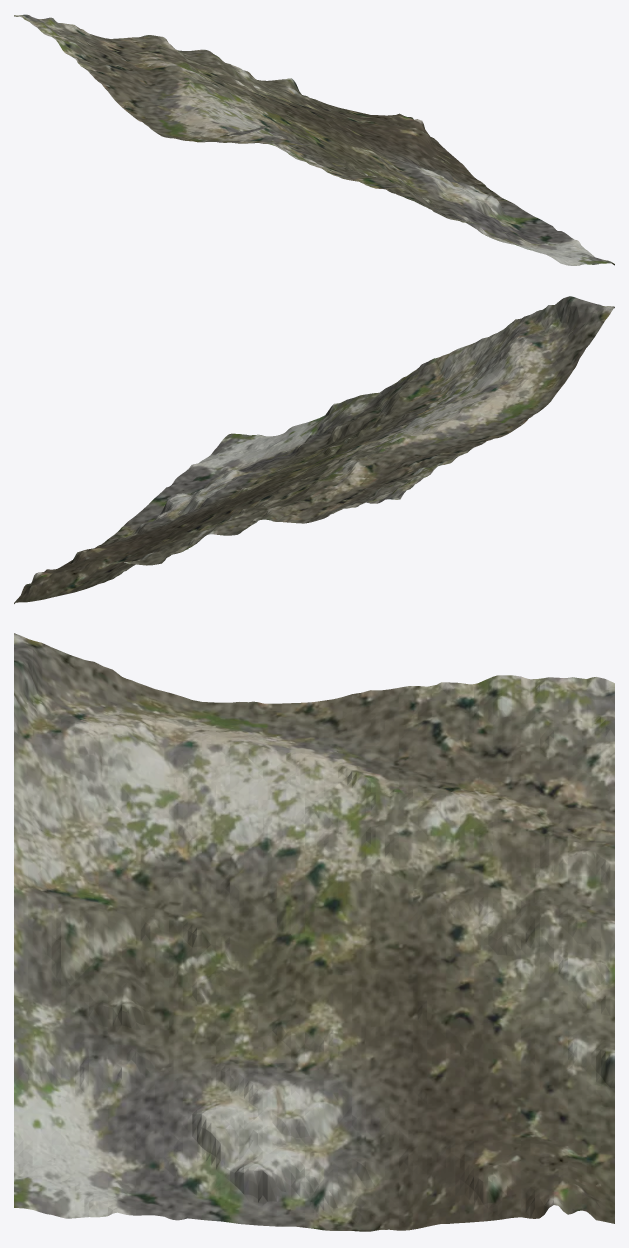
The picture shows the model from 3 angles, top to bottom: view 1: azimuth 30°, elevation 25°; view 2: azimuth 150°, elevation 25°; view 3: azimuth 270°, elevation 25°; orthographic projection. The views are drawn at different scales.
Bounding box in the file's own units: 250 × 149 × 241.
1 material, 1 textured.
